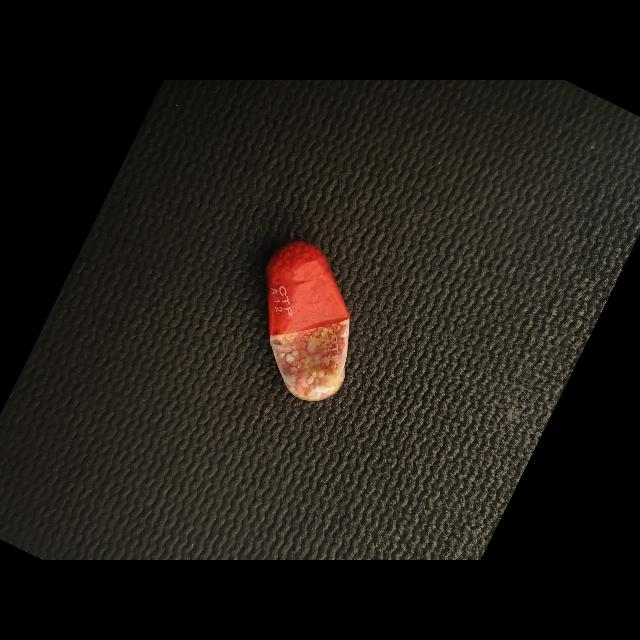Defective Capsule: (266, 241, 351, 401)
